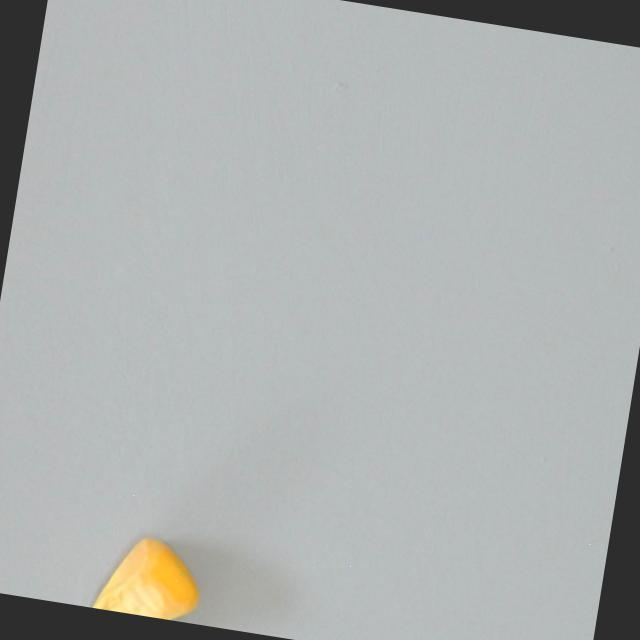entero: (87, 526, 213, 625)
